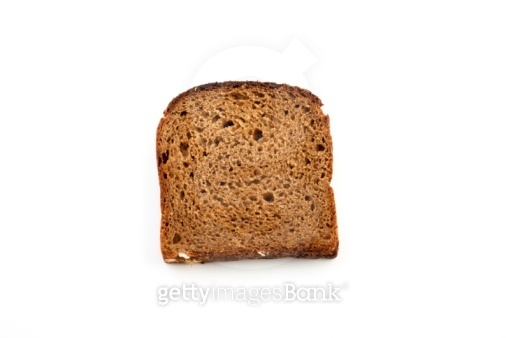slice of bread: (152, 78, 344, 266)
